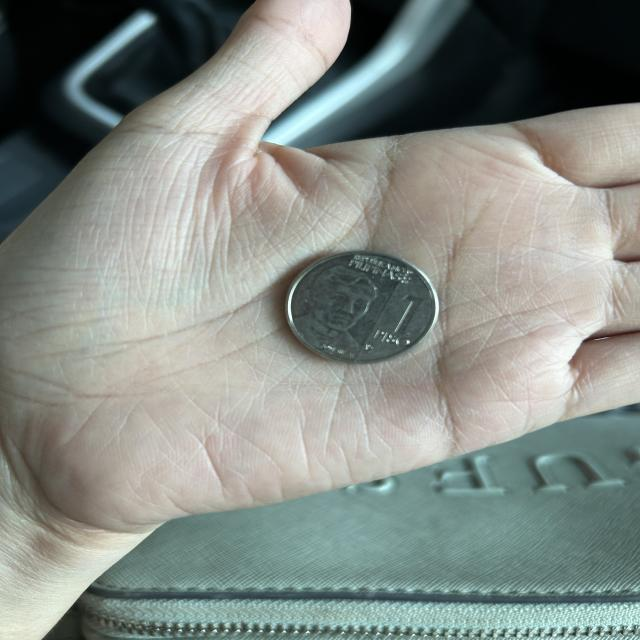1_New_Front: (371, 287, 427, 351)
